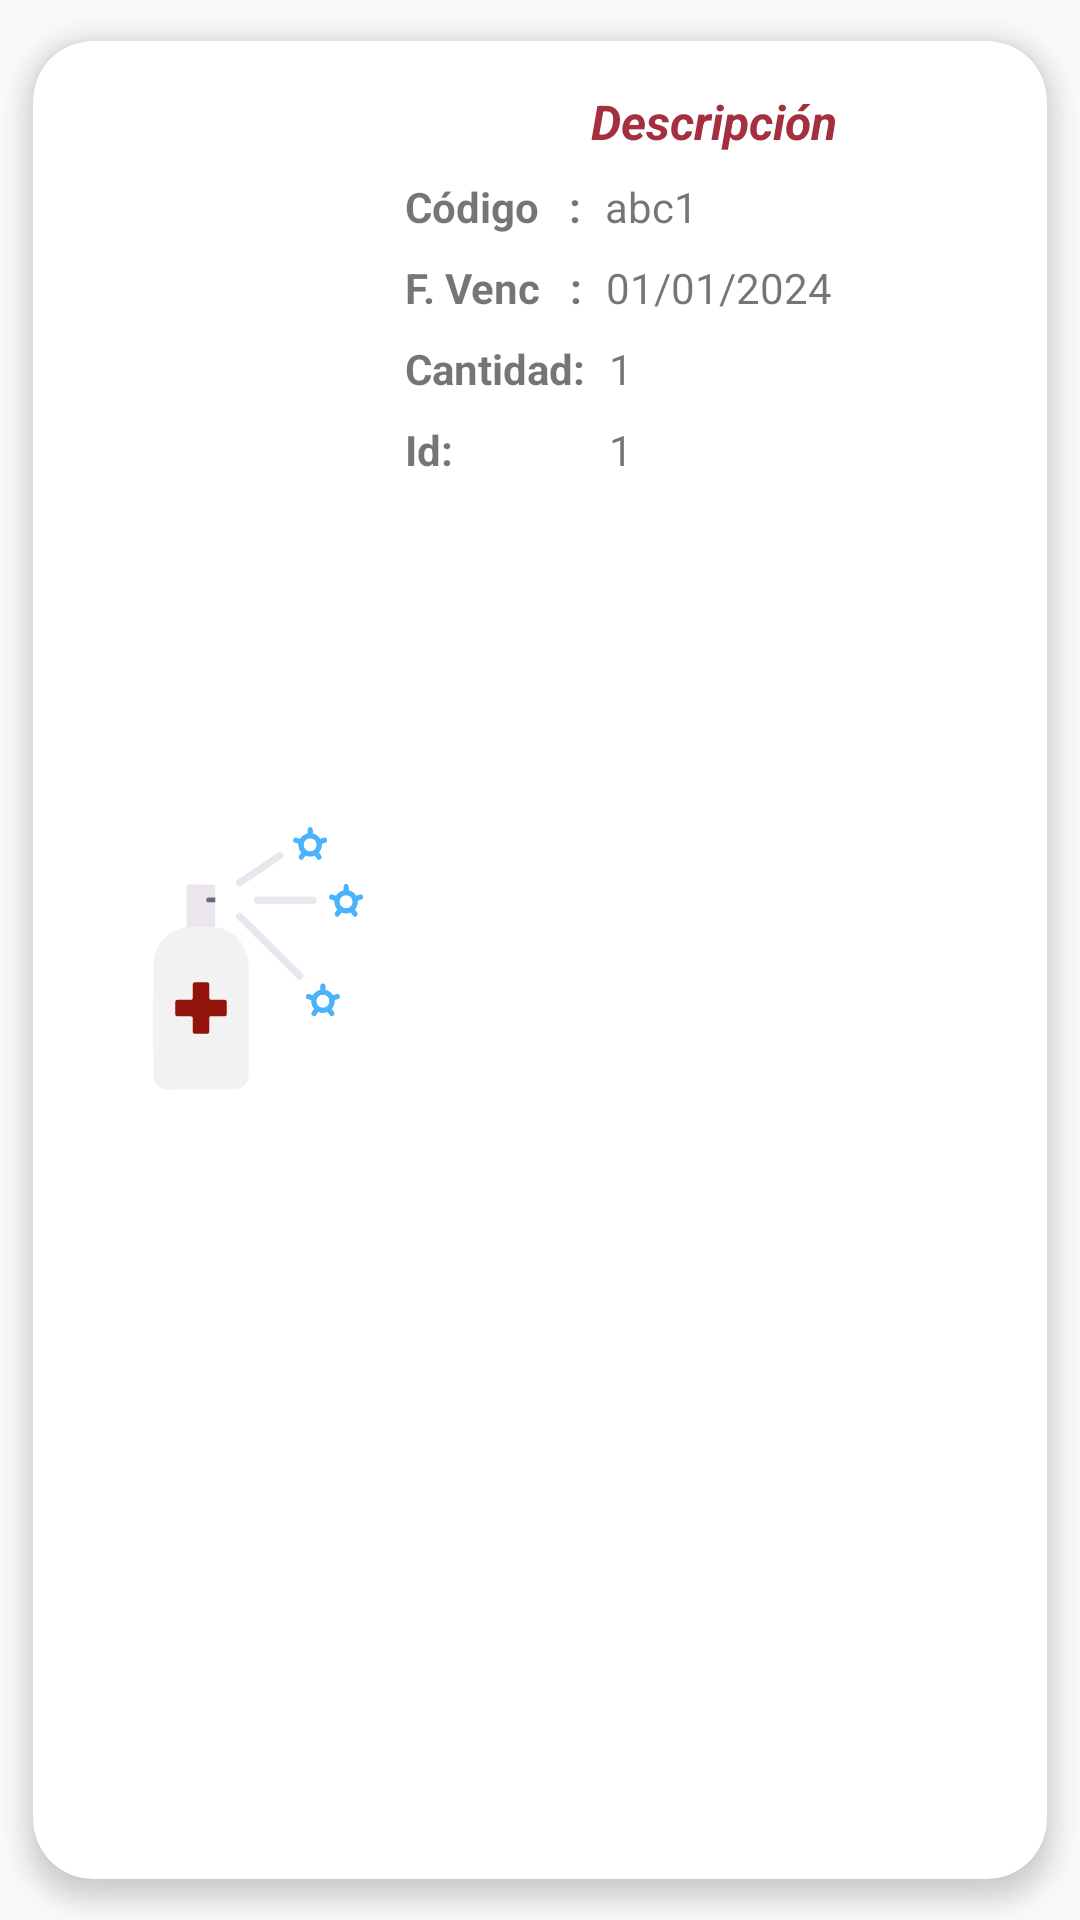

Named icons in this screenshot (1080 x 1920) and their centers, (x=x, y=y):
wired antibacterial spray disinfection: (x=269, y=930)
